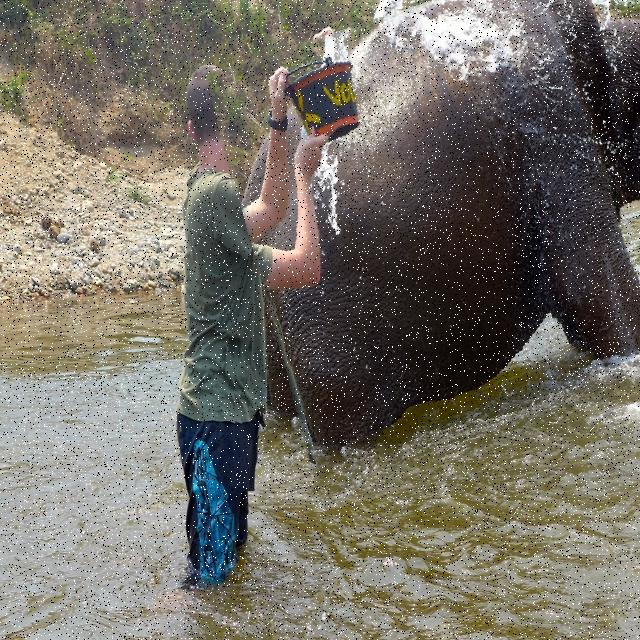elephant: (229, 0, 640, 492)
